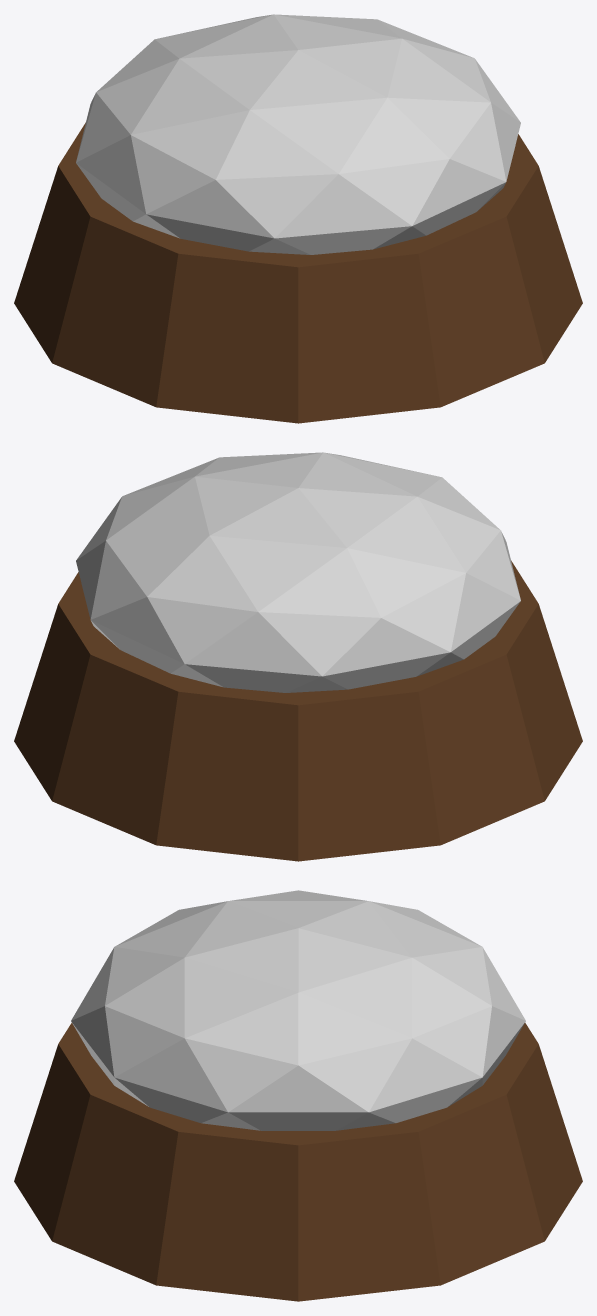
The model's file is SM_GZ_item_salt.fbx.
The picture shows the model from 3 angles, top to bottom: view 1: azimuth 30°, elevation 25°; view 2: azimuth 150°, elevation 25°; view 3: azimuth 270°, elevation 25°; orthographic projection.
Parts seen in each view (by area): view 1: SM_GZ_item_salt; view 2: SM_GZ_item_salt; view 3: SM_GZ_item_salt.
Part boxes in pixels (left/top/right/bottom): SM_GZ_item_salt: left=14, top=14, right=582, bottom=423; SM_GZ_item_salt: left=14, top=452, right=582, bottom=861; SM_GZ_item_salt: left=14, top=890, right=582, bottom=1301.
Size of the model in its own units: 90 by 44.2 by 90.
